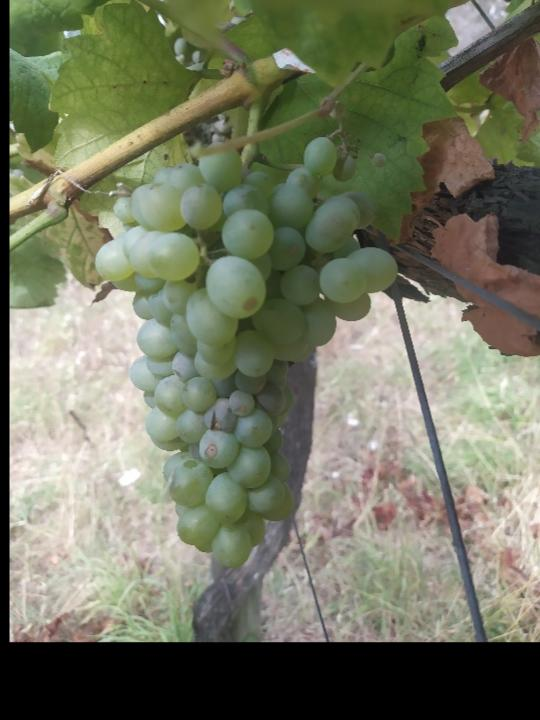grape: (94, 134, 402, 567)
